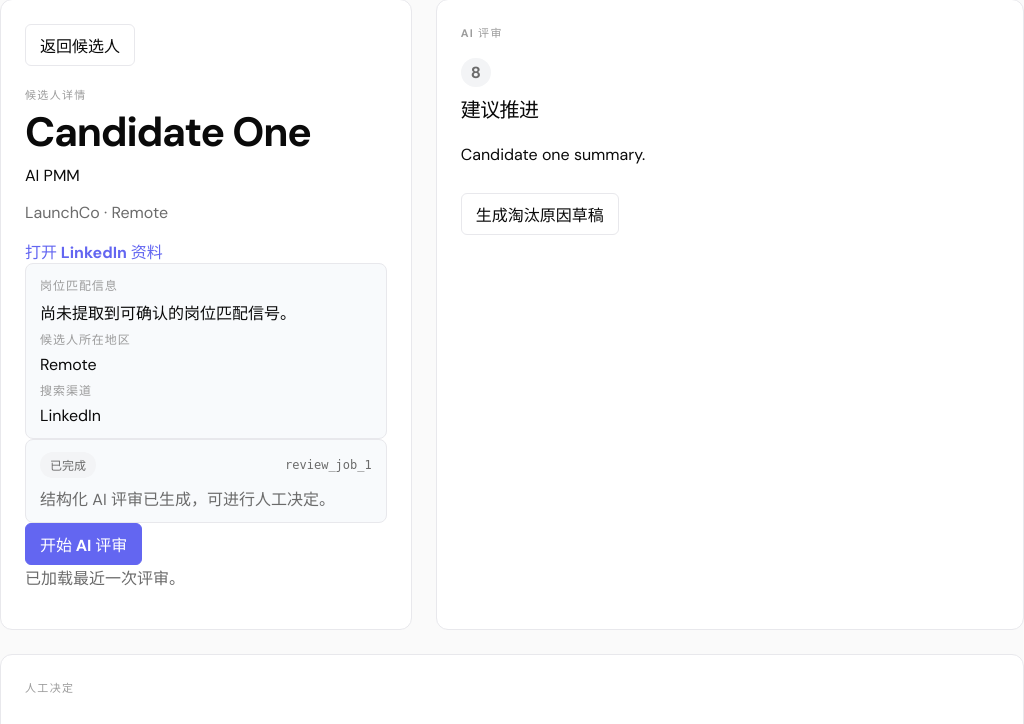
Test case: surfaces review, draft, validation, and decision errors
Expected: the text "Candidate one summary." is shown, [461,144,645,165]
Expected: the text "已完成" is shown, [40,452,96,478]
Click the button "开始 AI 评审".
click(84, 544)  # box [25,523,142,565]
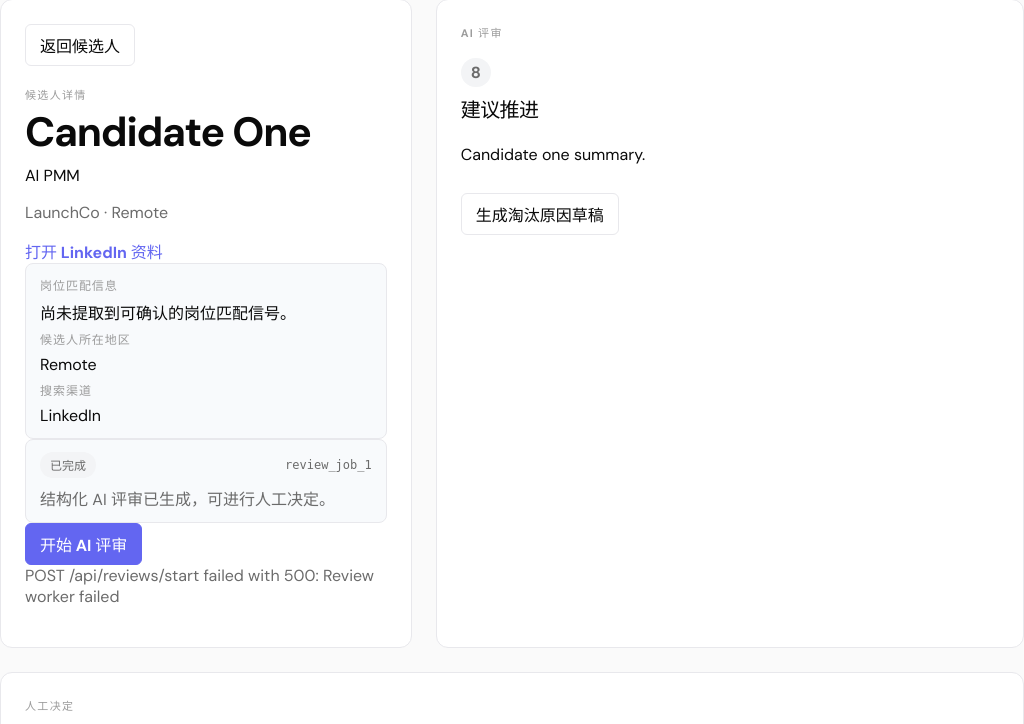
Expected: the text "已完成" is shown, [40,452,96,478]
Expected: the text "POST /api/reviews/start failed with 500: Review worker failed" is shown, [25,565,387,607]
Click the button "生成淘汰原因草稿".
click(540, 214)  # box [461,193,619,235]
(page scrolled)
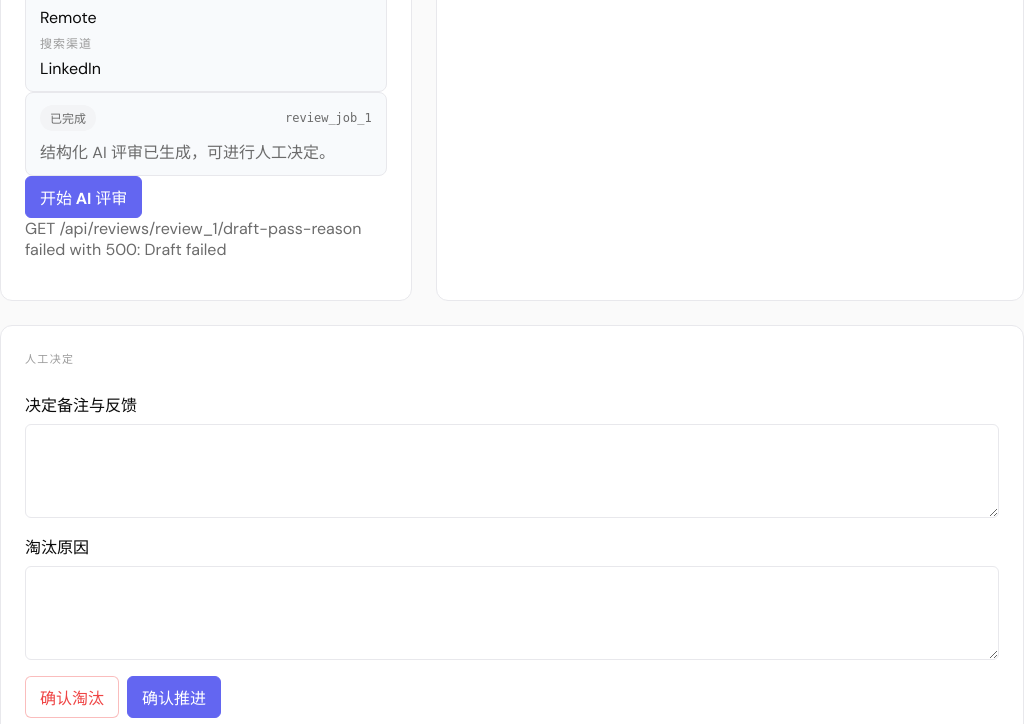
Expected: the text "已完成" is shown, [40,105,96,131]
Expected: the text "GET /api/reviews/review_1/draft-pass-reason failed with 500: Draft failed" is shown, [25,218,387,260]
Click the button "确认淘汰".
click(72, 697)  # box [25,676,119,718]
(page scrolled)
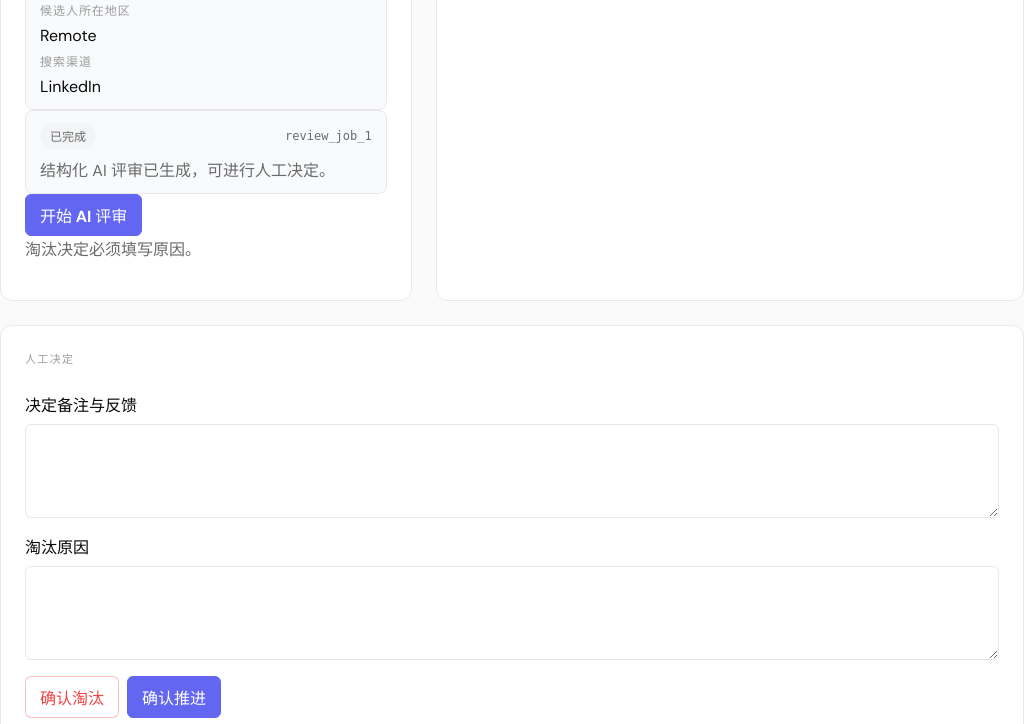
Expected: the text "淘汰决定必须填写原因。" is shown, [25,239,201,260]
Type "Not enough public evidence." into the text box labelled "淘汰原因".
click(512, 613); type("Not enough public evidence.")  # box [25,566,999,660]
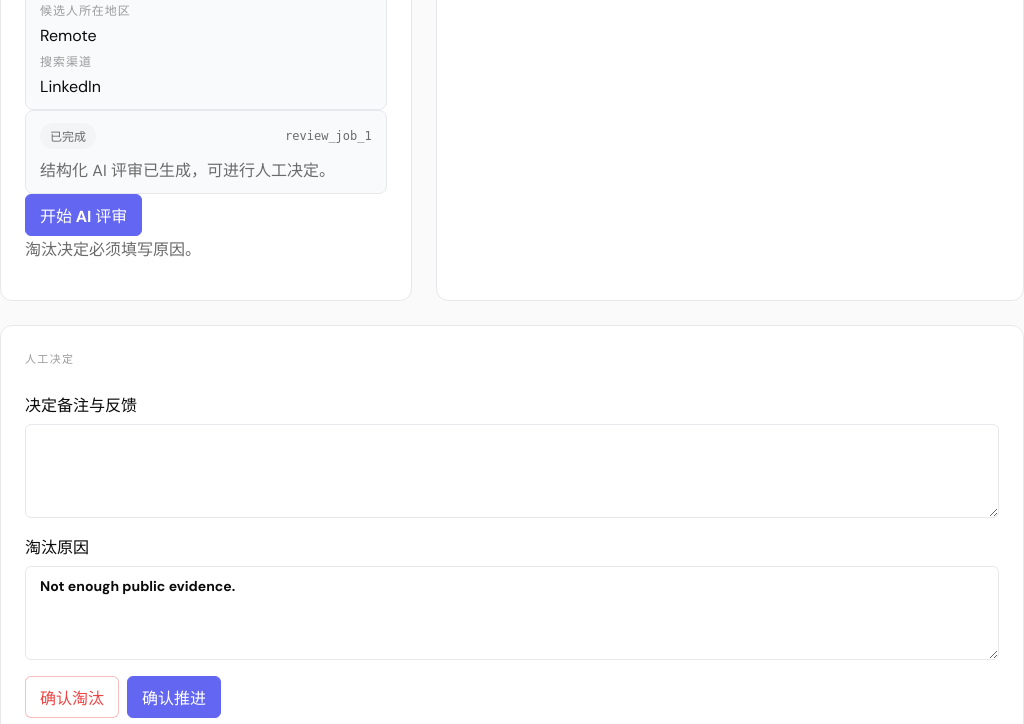
Click the button "确认淘汰".
click(72, 697)  # box [25,676,119,718]
(page scrolled)
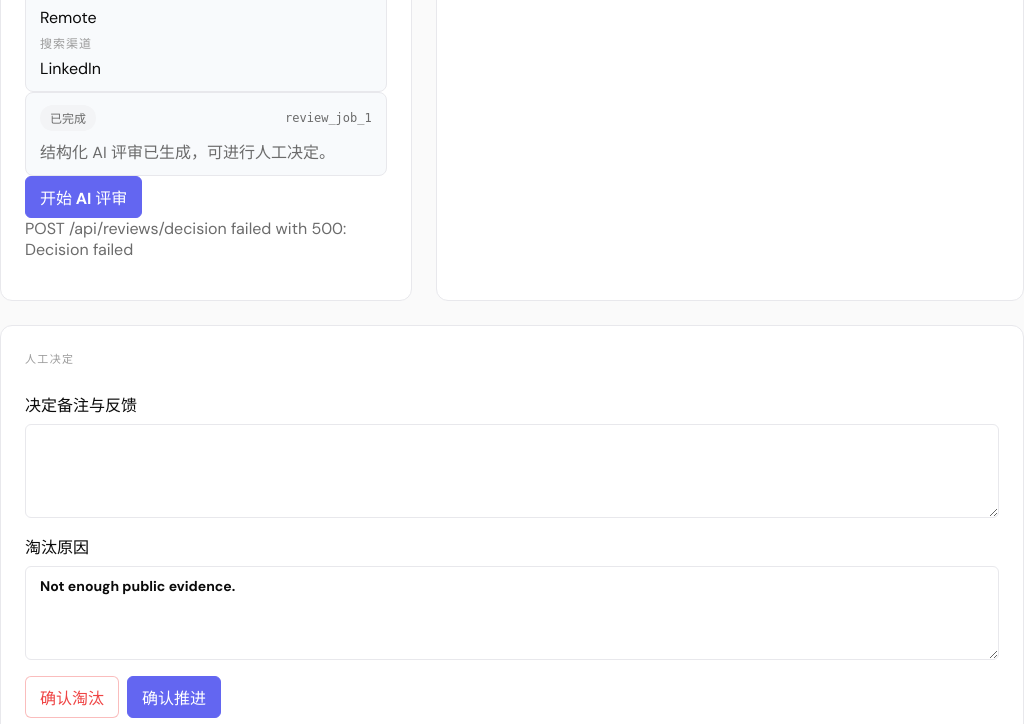
Expected: the text "POST /api/reviews/decision failed with 500: Decision failed" is shown, [25,218,387,260]
